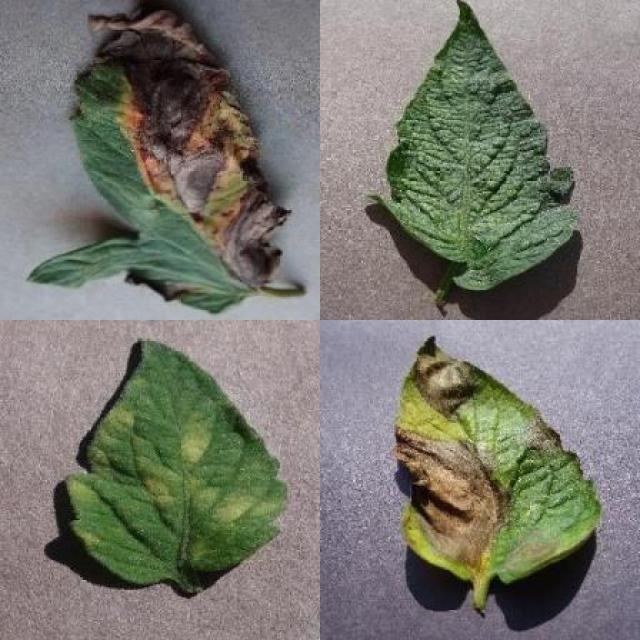Early Blight: (28, 3, 311, 317)
Late Blight: (392, 334, 602, 584)
Leaf Mold: (65, 336, 288, 586)
Spider Mites: (372, 0, 578, 293)
